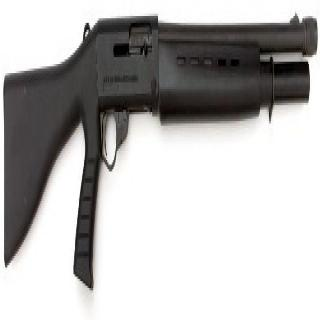gun: (3, 5, 319, 318)
